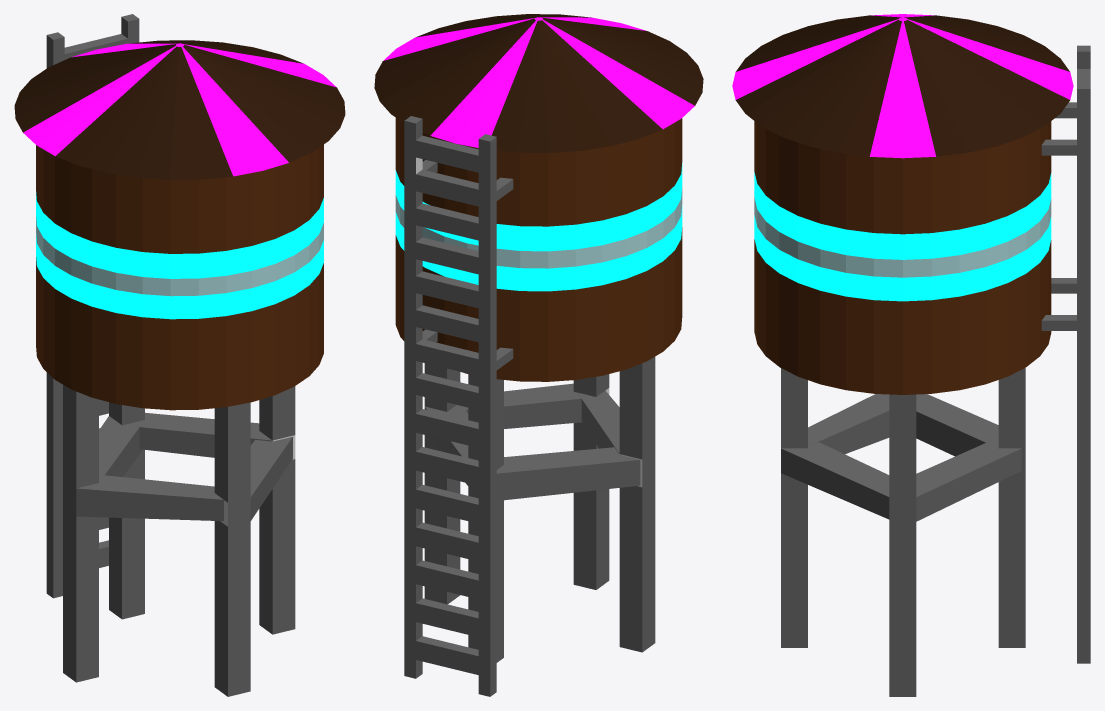
Rendered from watertank.fbx.
The picture shows the model from 3 angles, left to right: view 1: azimuth 30°, elevation 25°; view 2: azimuth 150°, elevation 25°; view 3: azimuth 270°, elevation 25°; orthographic projection. The views are drawn at different scales.
Visible parts, largest first — view 1: Cube; view 2: Cube; view 3: Cube.
Boxes of the visible parts, x1,y1,x2,y2 form: Cube: (14, 14, 345, 696); Cube: (374, 14, 703, 696); Cube: (732, 14, 1090, 696).
Bounding box in the file's own units: 1903 × 3833 × 1998.
